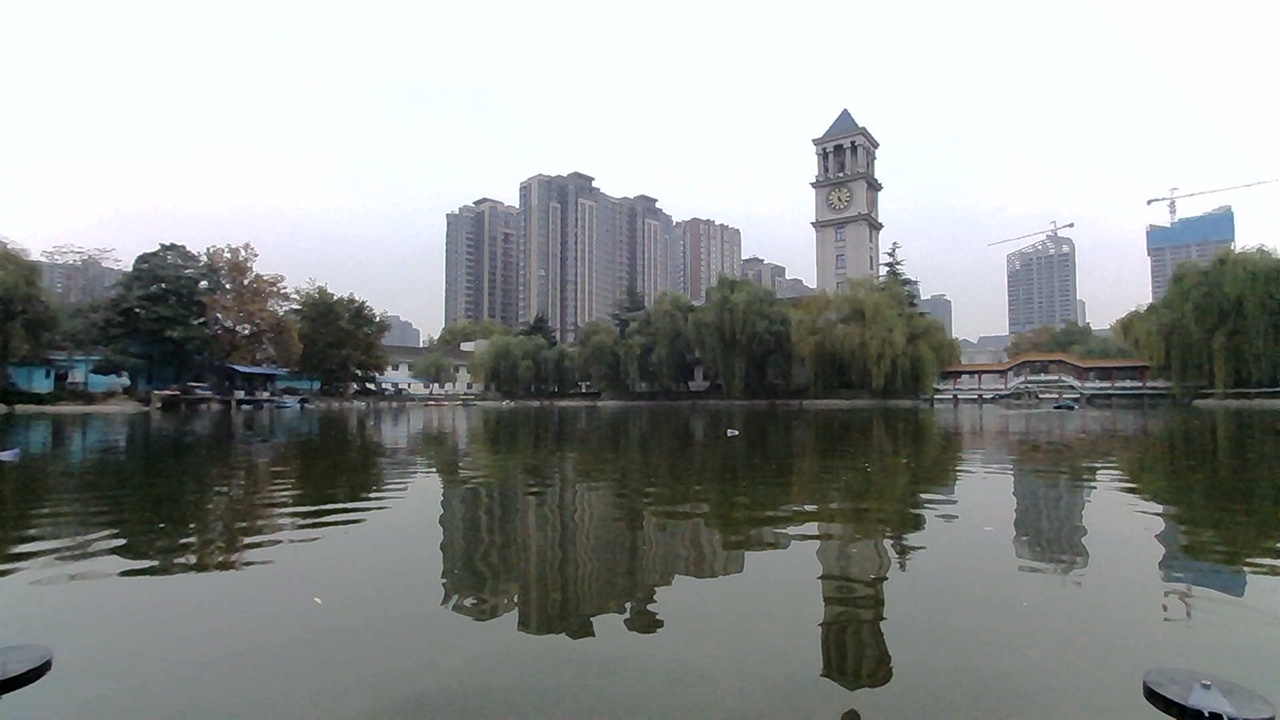bottle: (1, 429, 57, 471), (713, 415, 752, 445)
